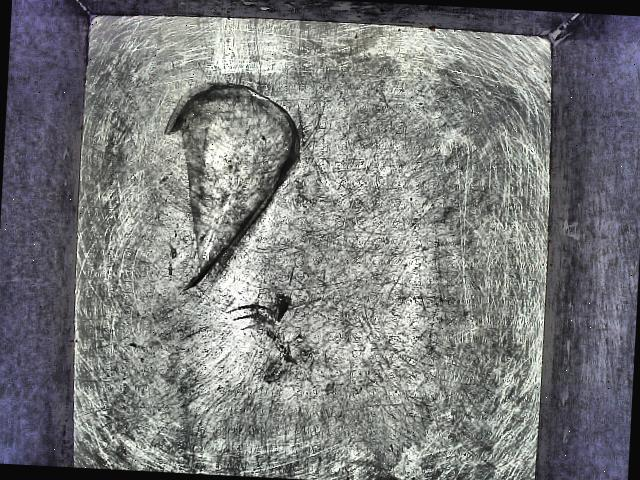Plastic: (166, 80, 317, 300)
